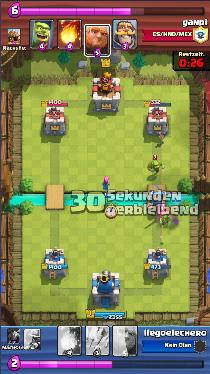ally_archer: (101, 177, 111, 191)
ally_goblin_cage: (146, 161, 165, 176)
ally_knight: (147, 192, 165, 206)
enemy_spear_goblin: (160, 213, 172, 226)
